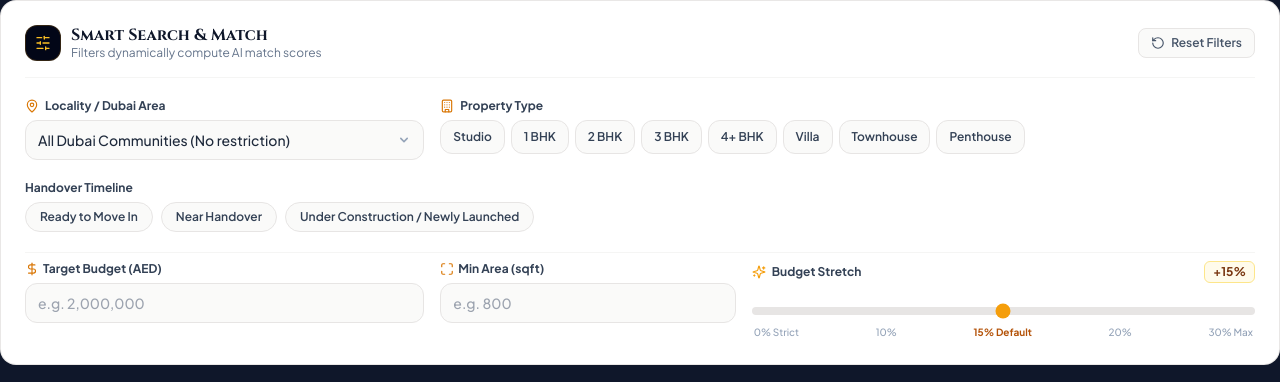
it: FilterBar › adjusts budget stretch slider between 0% and 30% with default 15%
Expected: the text "+15%" is shown, [1204, 261, 1255, 283]
Set the slider labelled "Budget Stretch" to "25" at (1166, 311), box [752, 307, 1255, 315]
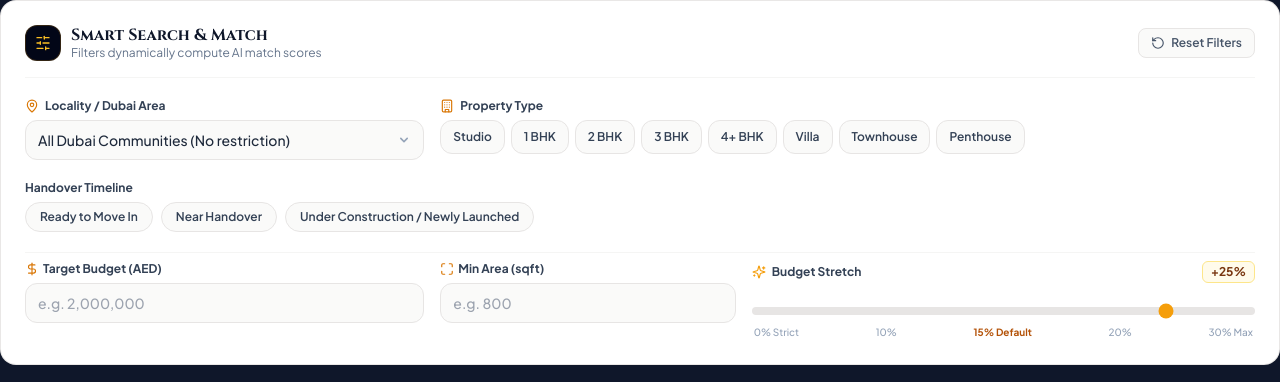
Now the text "+25%" is shown, box [1202, 261, 1255, 283]
